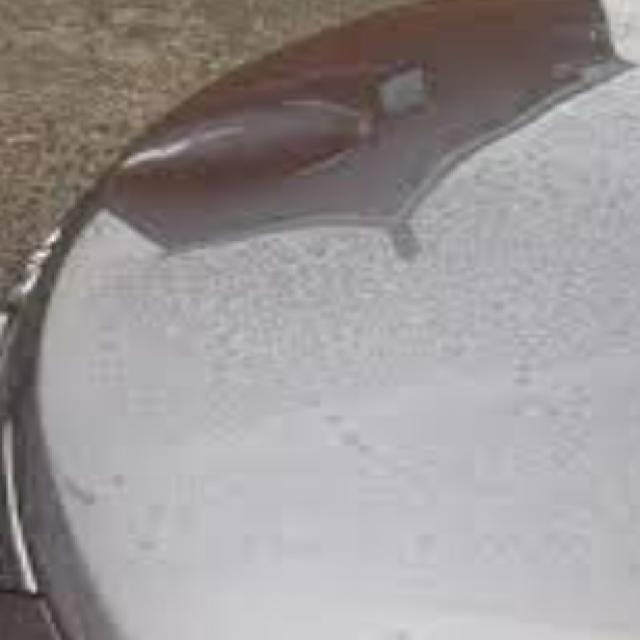dents: (94, 90, 425, 228)
